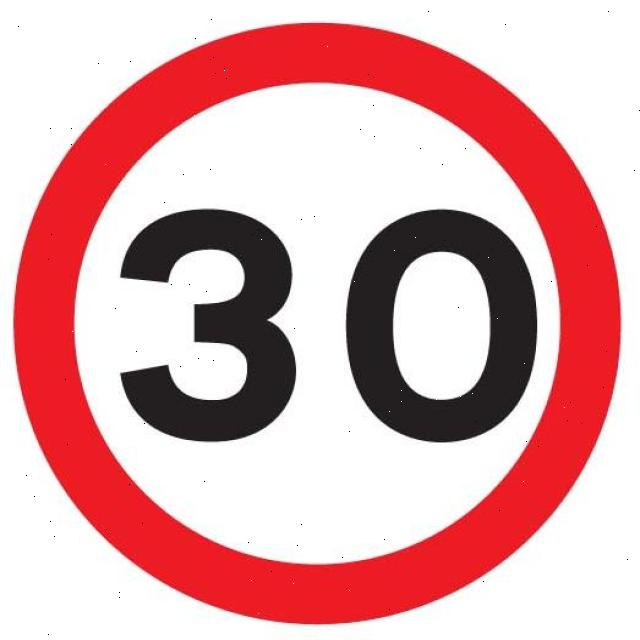speed_limit_30: (113, 203, 545, 454)
